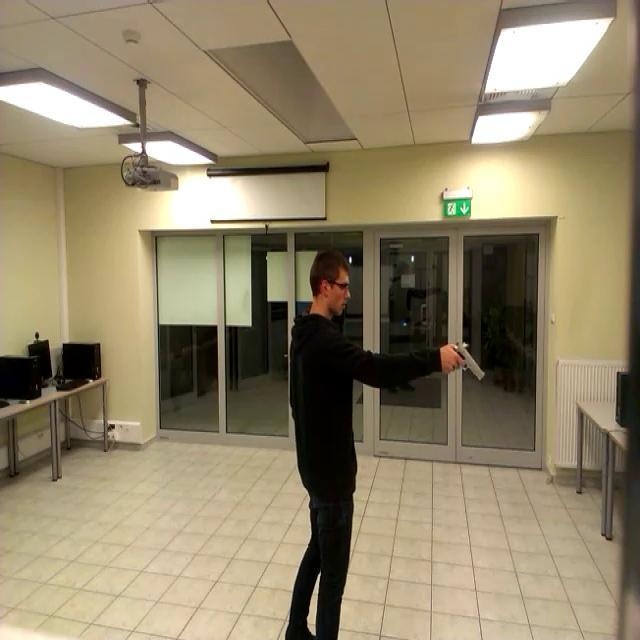Gun: (442, 331, 488, 387)
